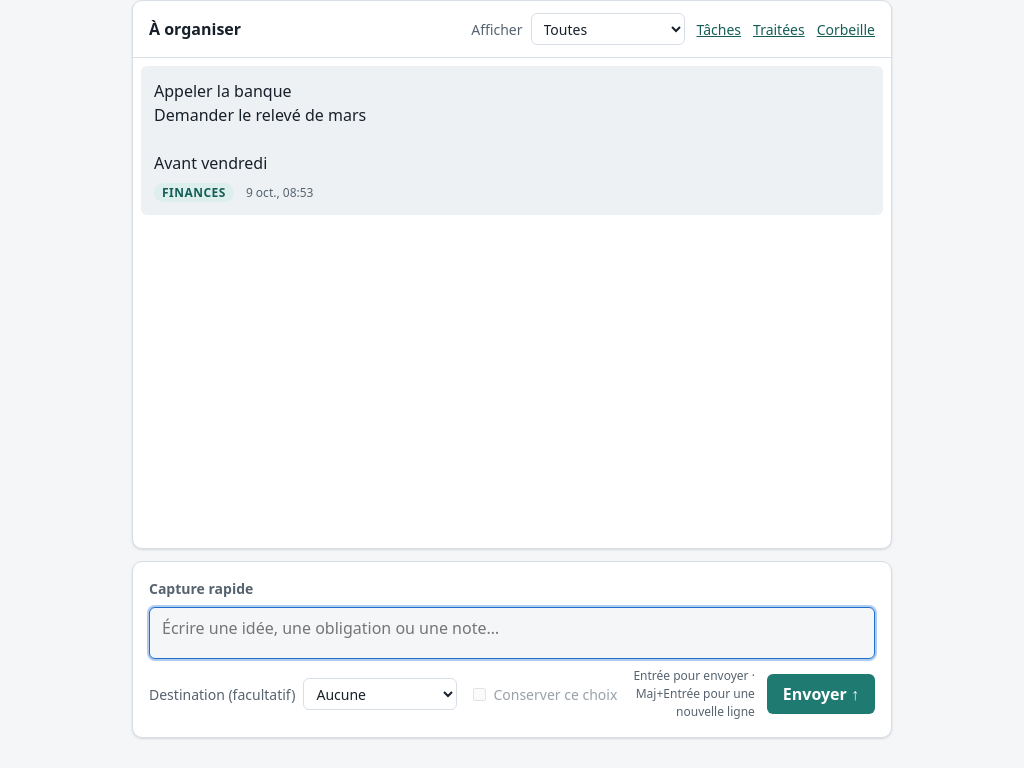
Scenario: 003-A — ouverture de la grande modale › ouvre une vraie modale préremplie, sans aucune écriture, au-dessus d'une fiche toujours présente
The image size is (1024, 768).
Step 1. Click the button "Appeler la banque" → (223, 91), box [142,67,882,214]
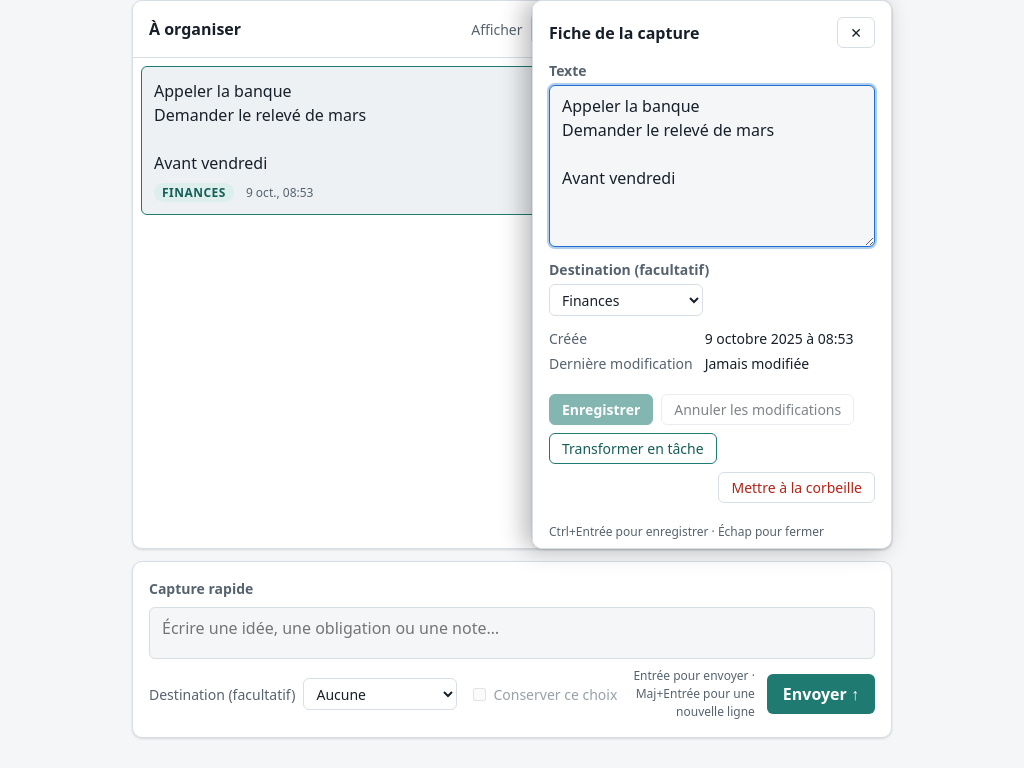
Step 2. Click the button "Transformer en tâche" → (633, 448), box [549,433,717,464]
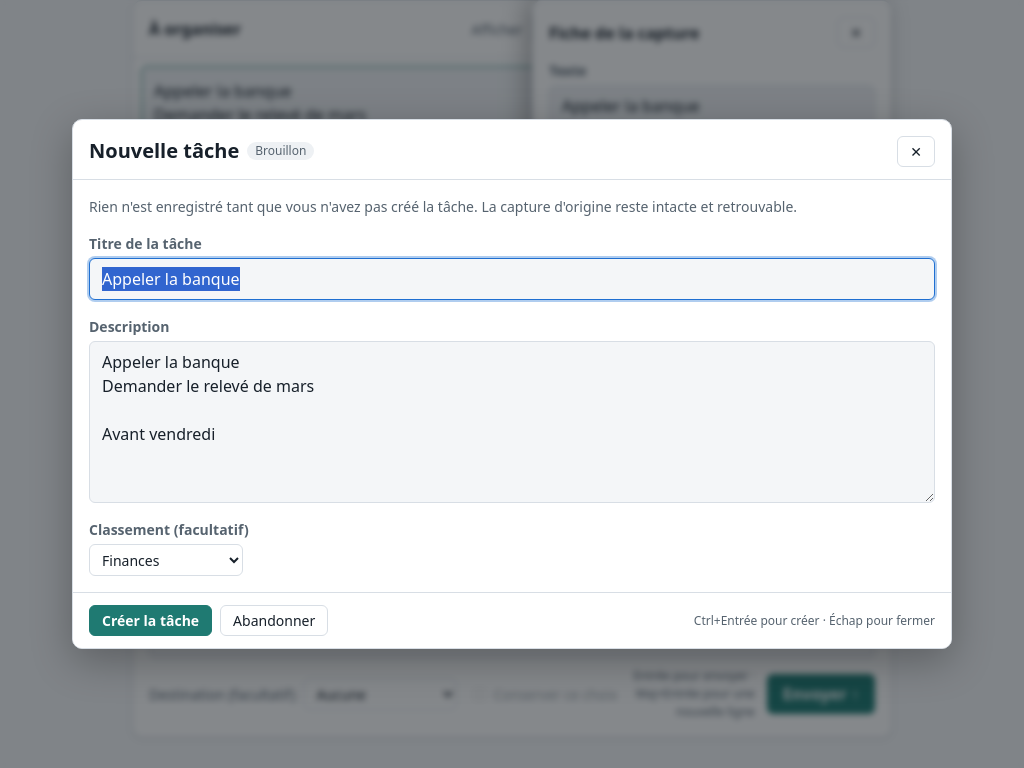
Check: the dialog "Nouvelle tâche" is shown, box [72,119,952,649]
Check: the field labelled "Titre de la tâche" holds "Appeler la banque", box [89,258,935,300]
Check: the dropdown labelled "Classement (facultatif)" shows "Finances", box [89,544,243,576]
